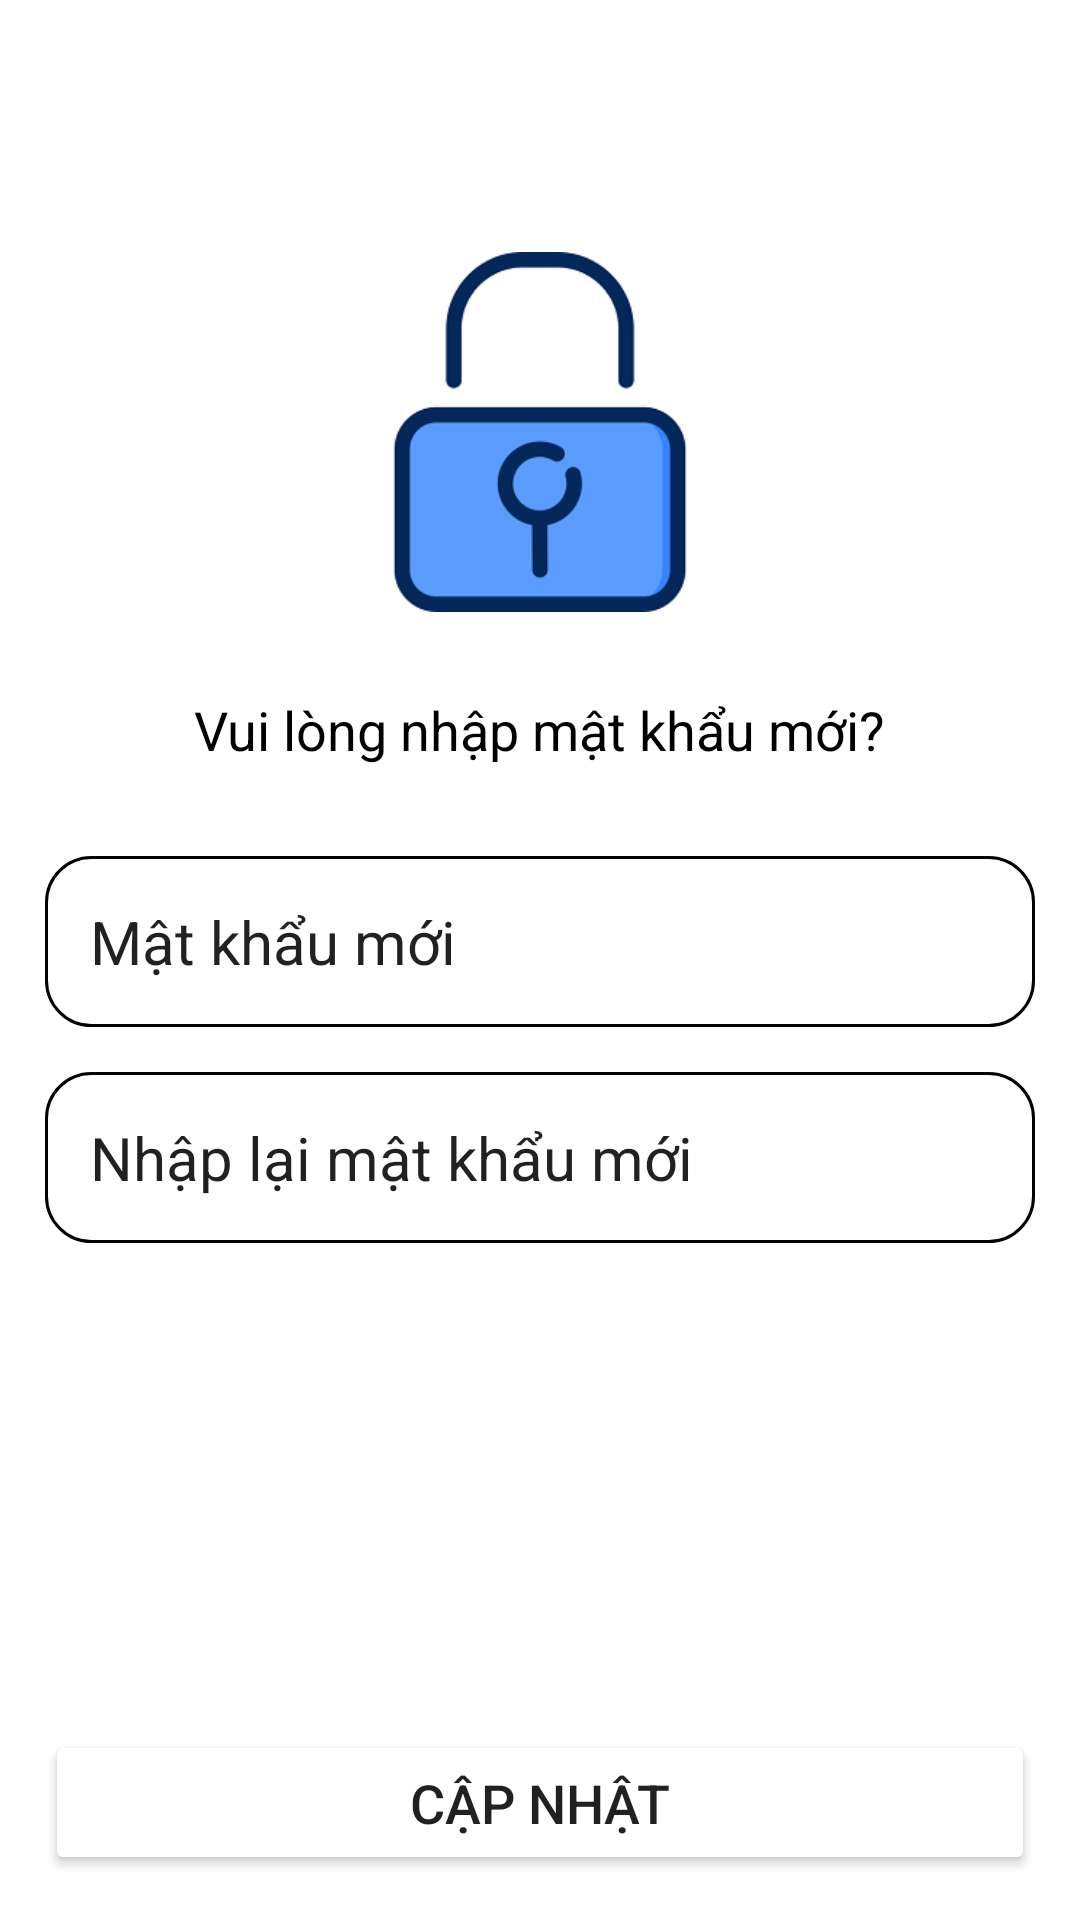

Icon bounding boxes for this 1080px x 1920px phone screenshot, format Rect(x1, y1, x2, y2):
lock: Rect(393, 252, 687, 612)
